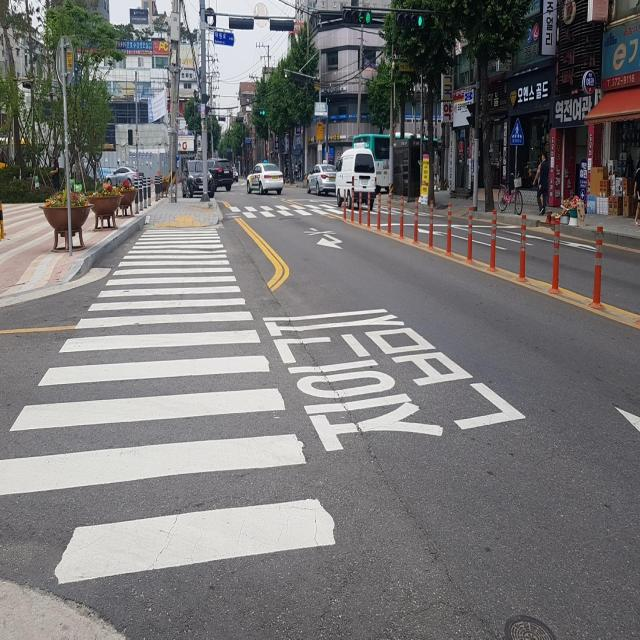횡단보도: (0, 223, 337, 590), (227, 200, 433, 218)
